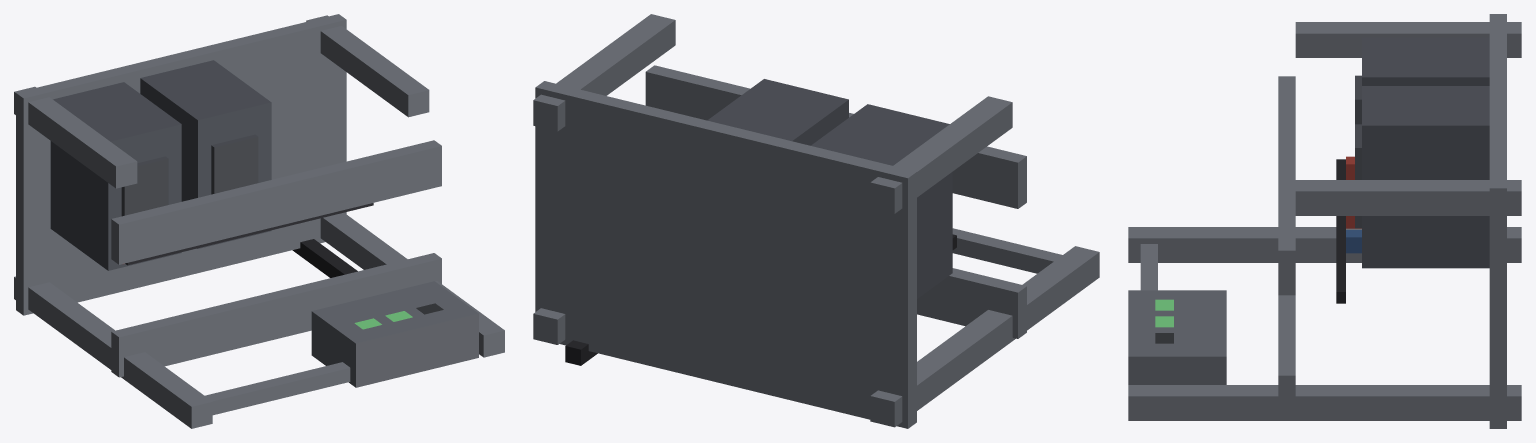
File: bank_ground_standard_c2_S.obj
3 views of the same model, side by side, from view 1: azimuth 30°, elevation 25°; view 2: azimuth 150°, elevation 25°; view 3: azimuth 270°, elevation 25° (orthographic). The views are drawn at different scales.
Parts seen in each view (by area): view 1: bank_ground_standard_c2_S; view 2: bank_ground_standard_c2_S; view 3: bank_ground_standard_c2_S.
Part boxes in pixels (x1,y1,x2,y2): bank_ground_standard_c2_S: (14, 14, 504, 428); bank_ground_standard_c2_S: (533, 14, 1099, 428); bank_ground_standard_c2_S: (1128, 14, 1521, 428).
Bounding box in the file's own units: 0.84 × 0.56 × 0.8.
1 material, 1 textured.
